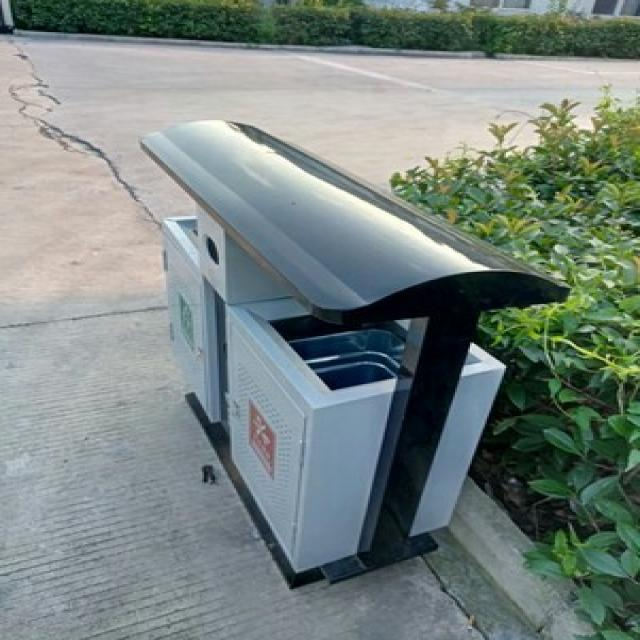ash bin: (138, 119, 572, 586)
